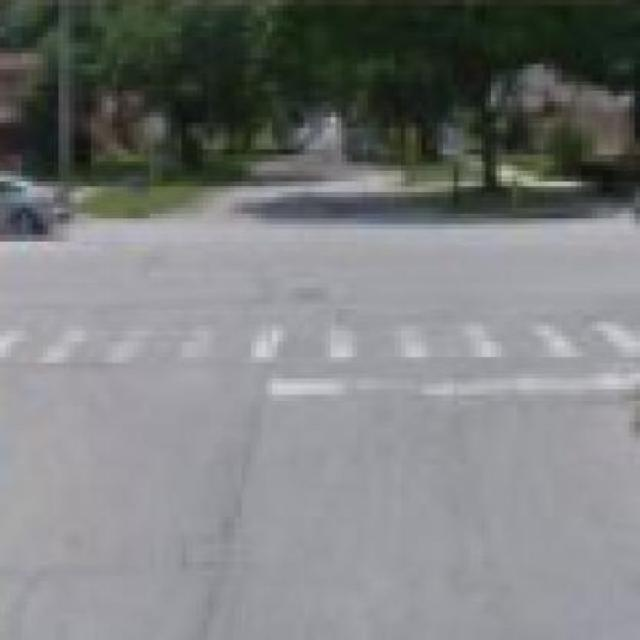crosswalk: (7, 318, 635, 363)
